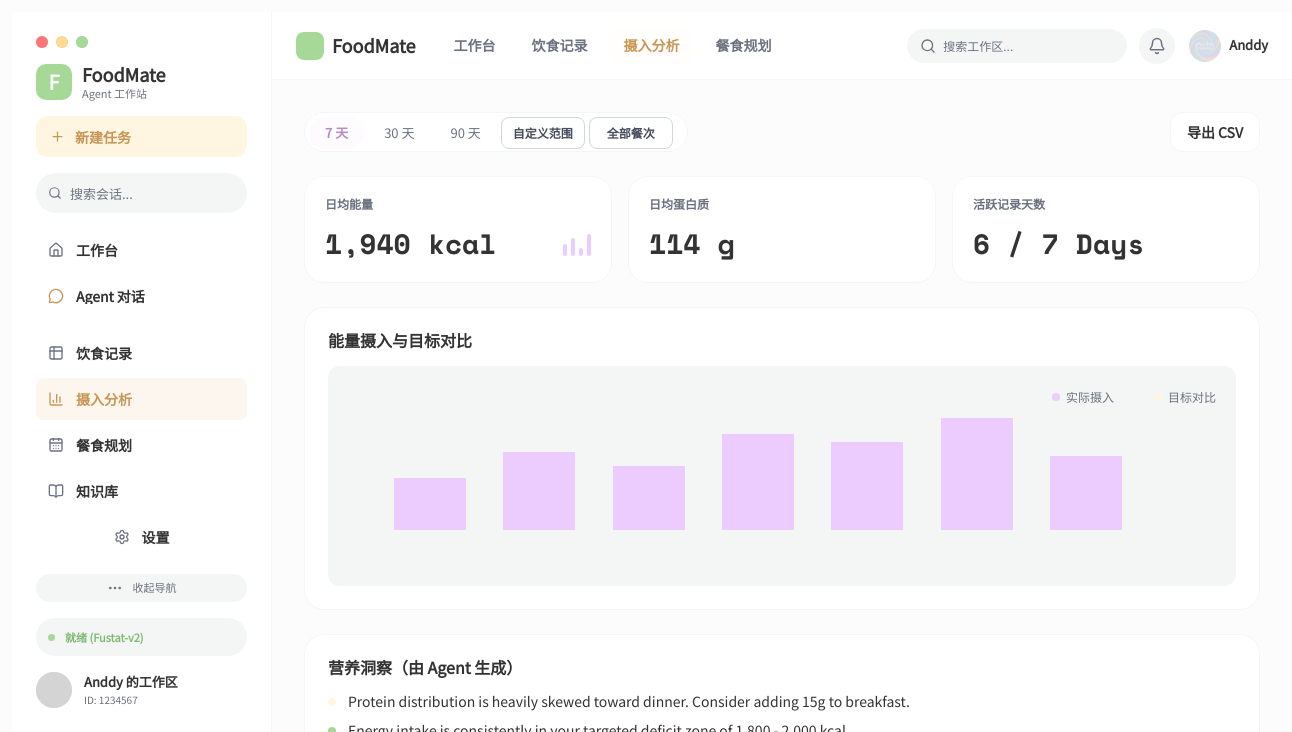
Test: AnalysisPage › renders the Figma filter controls with session history
expect the button "自定义范围" is shown: met, box [501, 117, 585, 149]
expect the field with placeholder "搜索会话..." is shown: met, box [36, 173, 247, 213]
Click the button "全部餐次". click: click(631, 133)
box: [589, 117, 673, 149]
(page scrolled)
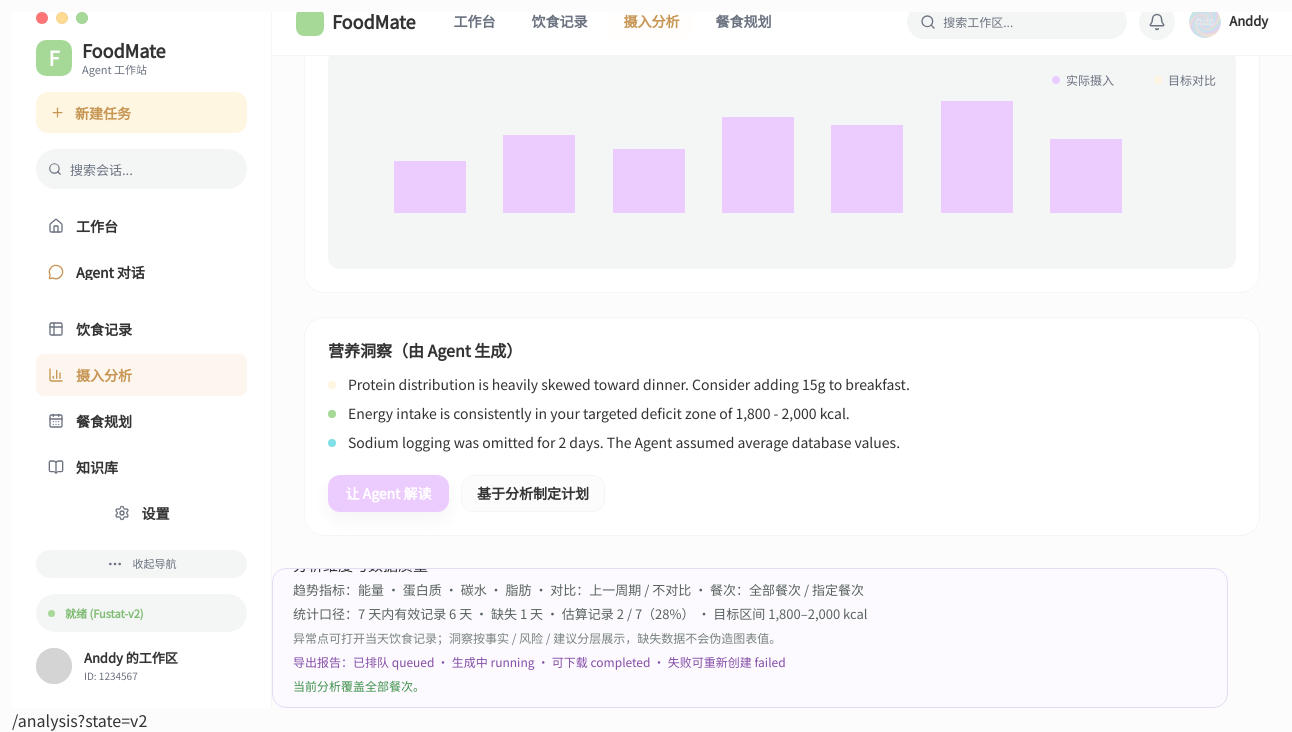
expect the text "当前分析覆盖全部餐次。" is shown: met, box [293, 677, 425, 694]
